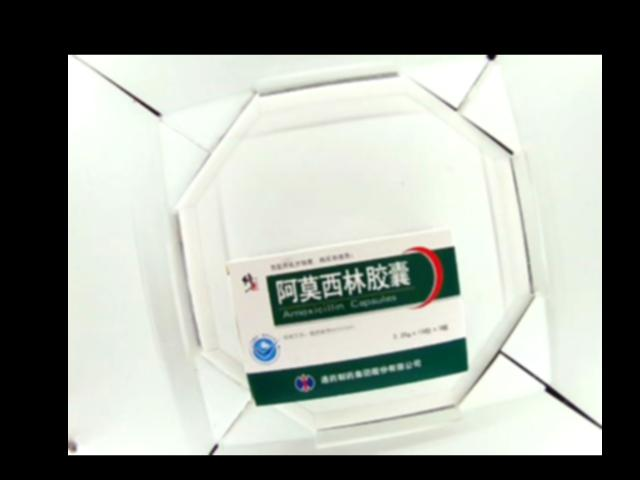Medicine: (224, 226, 469, 406)
